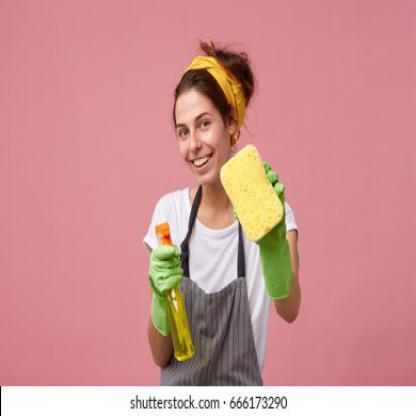Gloves: (254, 164, 294, 298), (147, 242, 184, 334)
